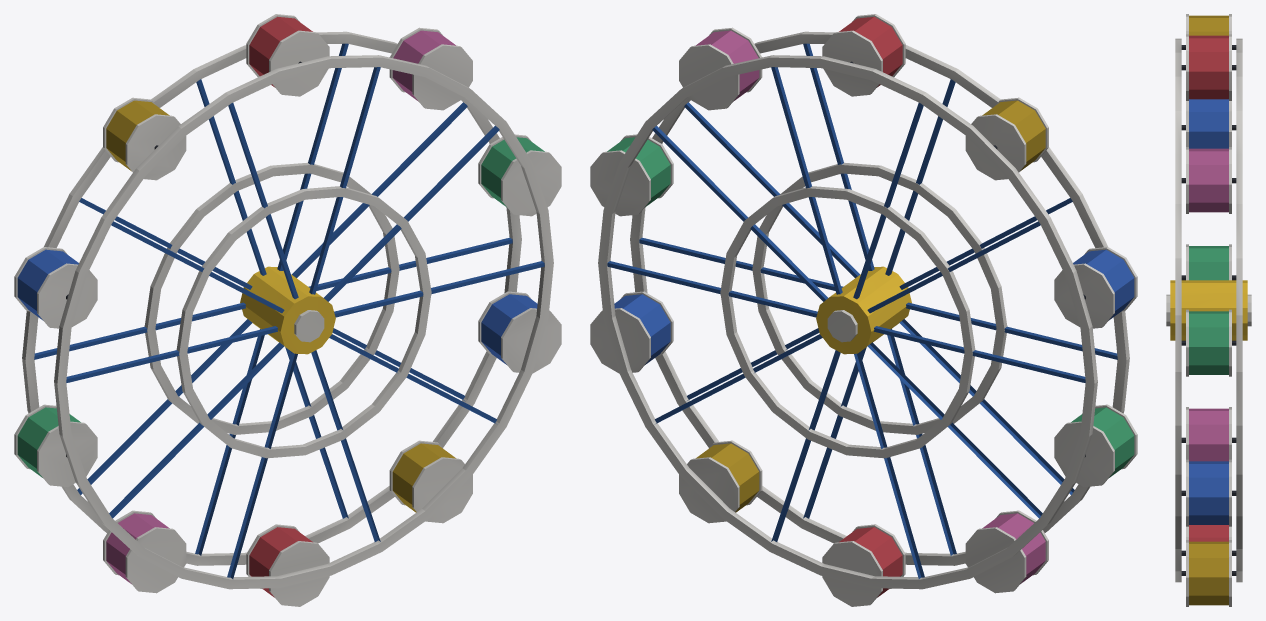
The model's file is bl_ferris_wheel.glb.
3 renders of one model, left to right at view 1: azimuth 30°, elevation 25°; view 2: azimuth 150°, elevation 25°; view 3: azimuth 270°, elevation 25°, orthographic. The views are drawn at different scales.
Visible parts, largest first — view 1: ferris_wheel; view 2: ferris_wheel; view 3: ferris_wheel.
Boxes of the visible parts, x1,y1,x2,y2 form: ferris_wheel: (14,14,561,606); ferris_wheel: (590,14,1137,606); ferris_wheel: (1166,14,1251,606).
Size of the model in its own units: 14.17 by 14.9 by 2.1.
